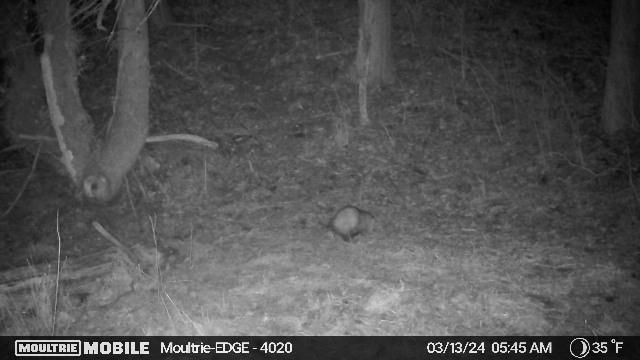Possum: (312, 204, 379, 241)
